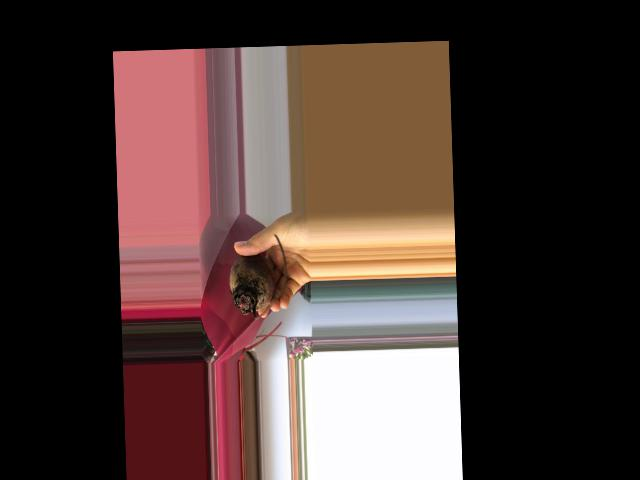beet: (228, 234, 288, 321)
